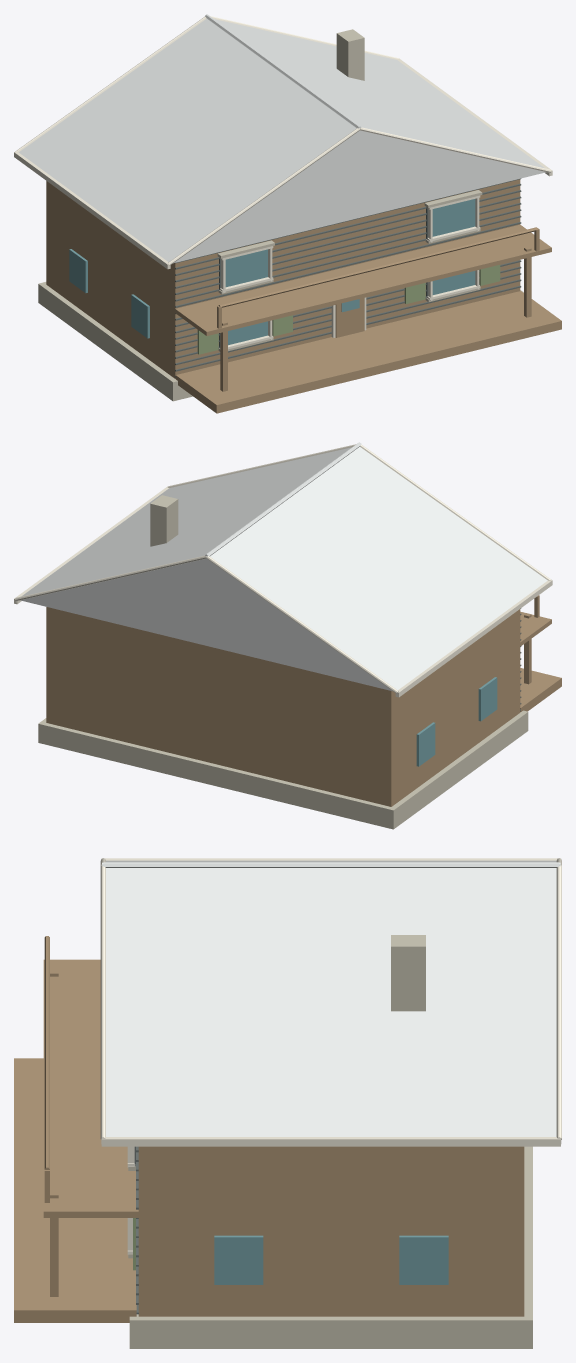
File: alpine-lodge-0.glb
The picture shows the model from 3 angles, top to bottom: view 1: azimuth 30°, elevation 25°; view 2: azimuth 150°, elevation 25°; view 3: azimuth 270°, elevation 25°; orthographic projection. The views are drawn at different scales.
Size of the model in its own units: 18.96 by 11.22 by 15.62.
